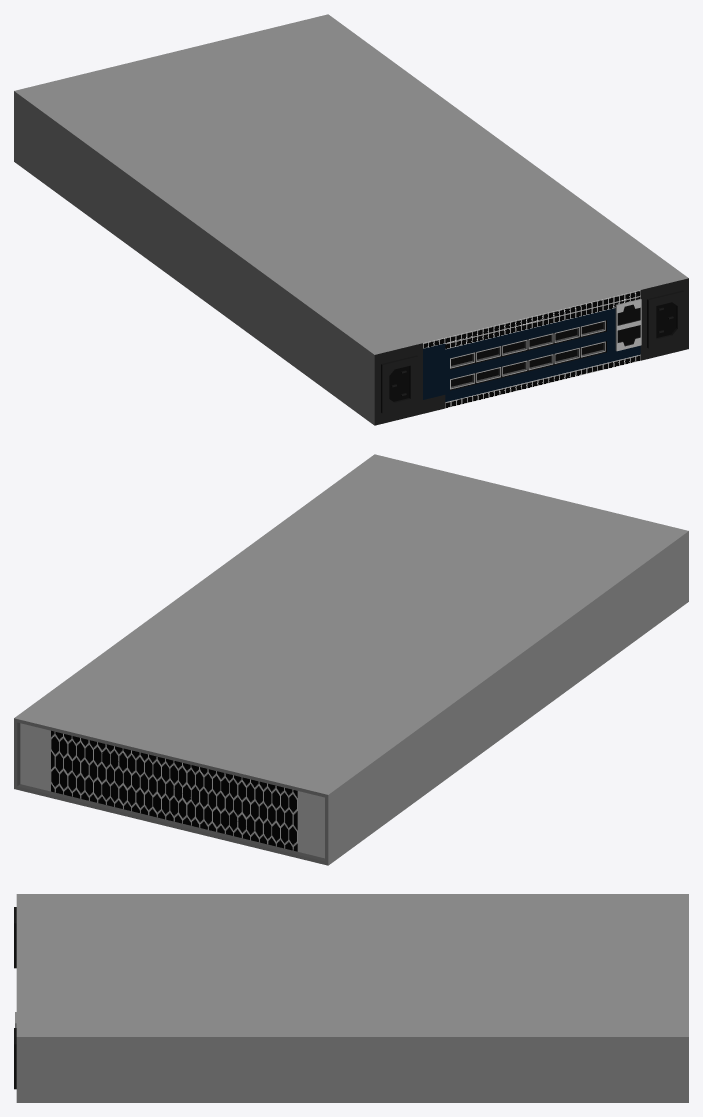
File: Mellanox_MSX 1012X-2B.fbx
The picture shows the model from 3 angles, top to bottom: view 1: azimuth 30°, elevation 25°; view 2: azimuth 150°, elevation 25°; view 3: azimuth 270°, elevation 25°; orthographic projection. The views are drawn at different scales.
Visible parts, largest first — view 1: Mellanox_MSX 1012X-2B; view 2: Mellanox_MSX 1012X-2B; view 3: Mellanox_MSX 1012X-2B.
Part boxes in pixels (box(x1,y1,x2,y2)): Mellanox_MSX 1012X-2B: box(14, 14, 688, 425); Mellanox_MSX 1012X-2B: box(14, 454, 688, 865); Mellanox_MSX 1012X-2B: box(14, 894, 688, 1102).
Size of the model in its own units: 201 by 43.18 by 400.
Materials: 13 (2 with a texture image).
